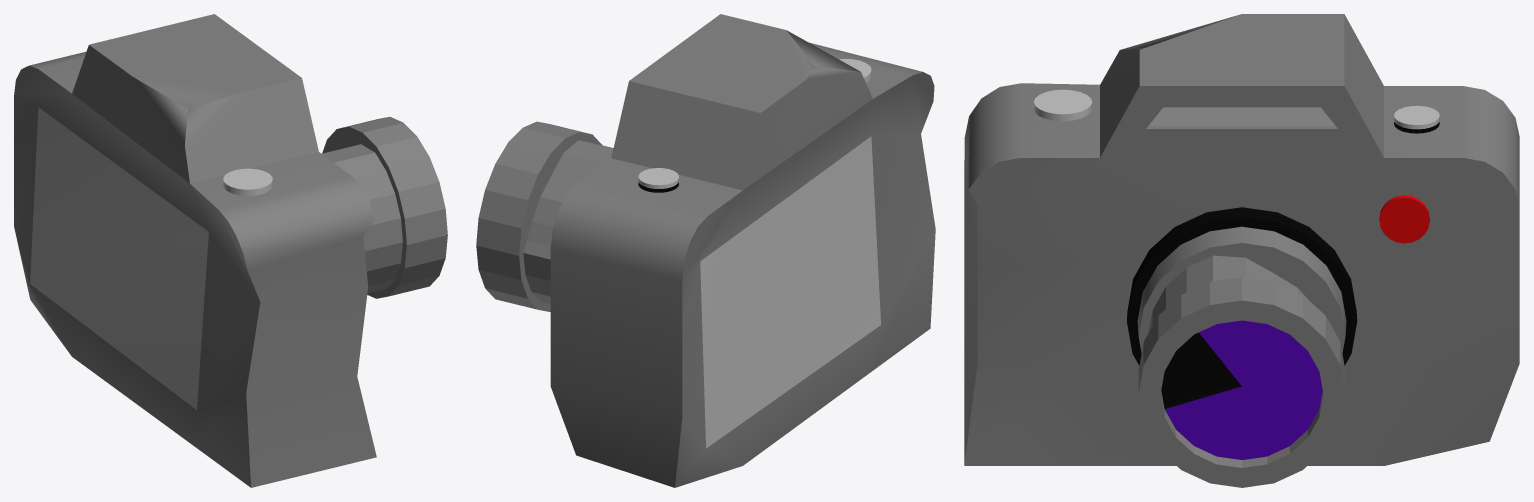
File: EwastePrefab.fbx
The picture shows the model from 3 angles, left to right: view 1: azimuth 30°, elevation 25°; view 2: azimuth 150°, elevation 25°; view 3: azimuth 270°, elevation 25°; orthographic projection. The views are drawn at different scales.
Parts seen in each view (by area): view 1: pCube1, pCylinder1, pCylinder4; view 2: pCube1, pCylinder1, pCylinder2; view 3: pCube1, pCylinder1, pCylinder3, pCylinder4, pCylinder2.
Part boxes in pixels (x1,y1,x2,y2): pCube1: (14, 14, 376, 487); pCylinder1: (322, 116, 447, 298); pCylinder4: (223, 168, 272, 195); pCube1: (550, 14, 935, 487); pCylinder1: (476, 121, 613, 311); pCylinder2: (638, 168, 678, 192); pCube1: (964, 14, 1519, 465); pCylinder1: (1127, 207, 1357, 487); pCylinder3: (1379, 195, 1429, 243); pCylinder4: (1034, 89, 1092, 121); pCylinder2: (1394, 105, 1439, 133).
Bounding box in the file's own units: 2.22 × 2.47 × 3.27.
